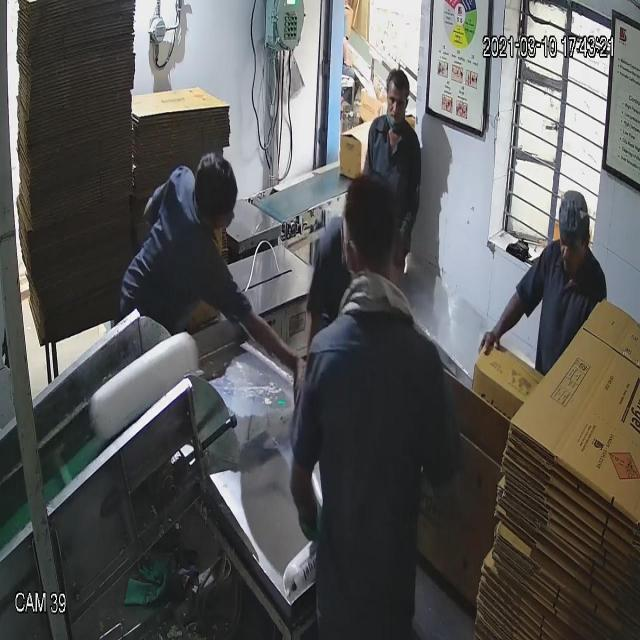No_Gloves: (74, 102, 508, 344)
